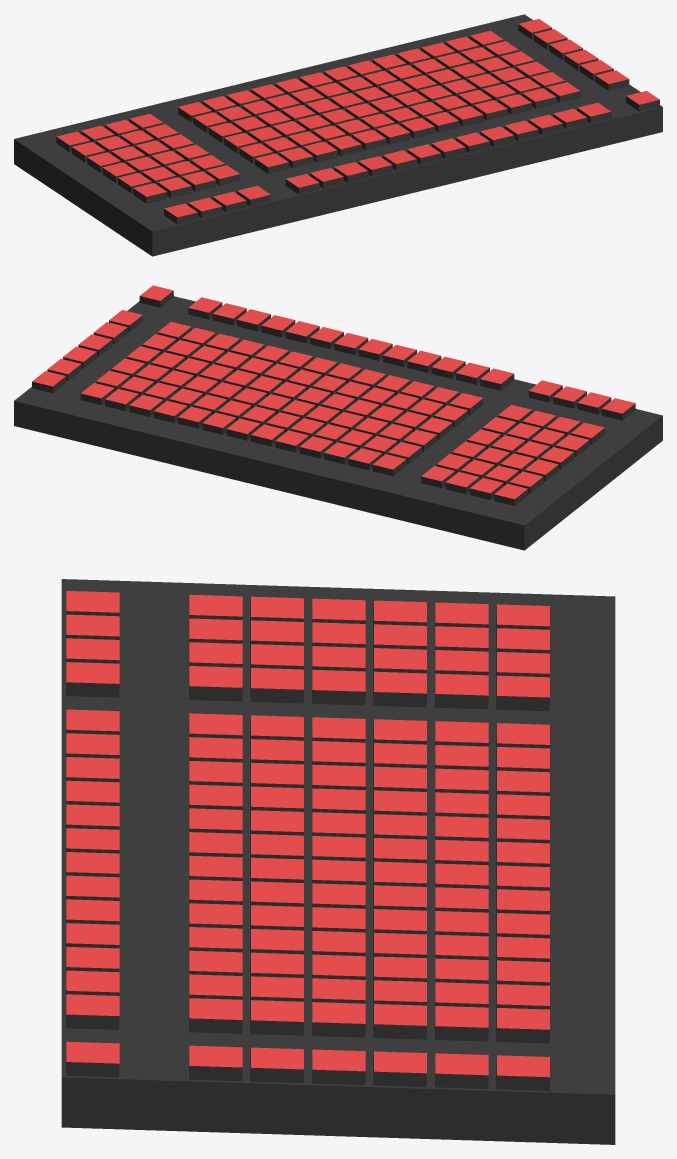
The model's file is Keyboard.fbx.
The picture shows the model from 3 angles, top to bottom: view 1: azimuth 30°, elevation 25°; view 2: azimuth 150°, elevation 25°; view 3: azimuth 270°, elevation 25°; orthographic projection. The views are drawn at different scales.
Parts seen in each view (by area): view 1: Keyboard_Mouse; view 2: Keyboard_Mouse; view 3: Keyboard_Mouse.
Part boxes in pixels (x1,y1,x2,y2): Keyboard_Mouse: (14,14,662,256); Keyboard_Mouse: (14,285,662,550); Keyboard_Mouse: (61,579,615,1144).
Size of the model in its own units: 34.08 by 2.59 by 16.
